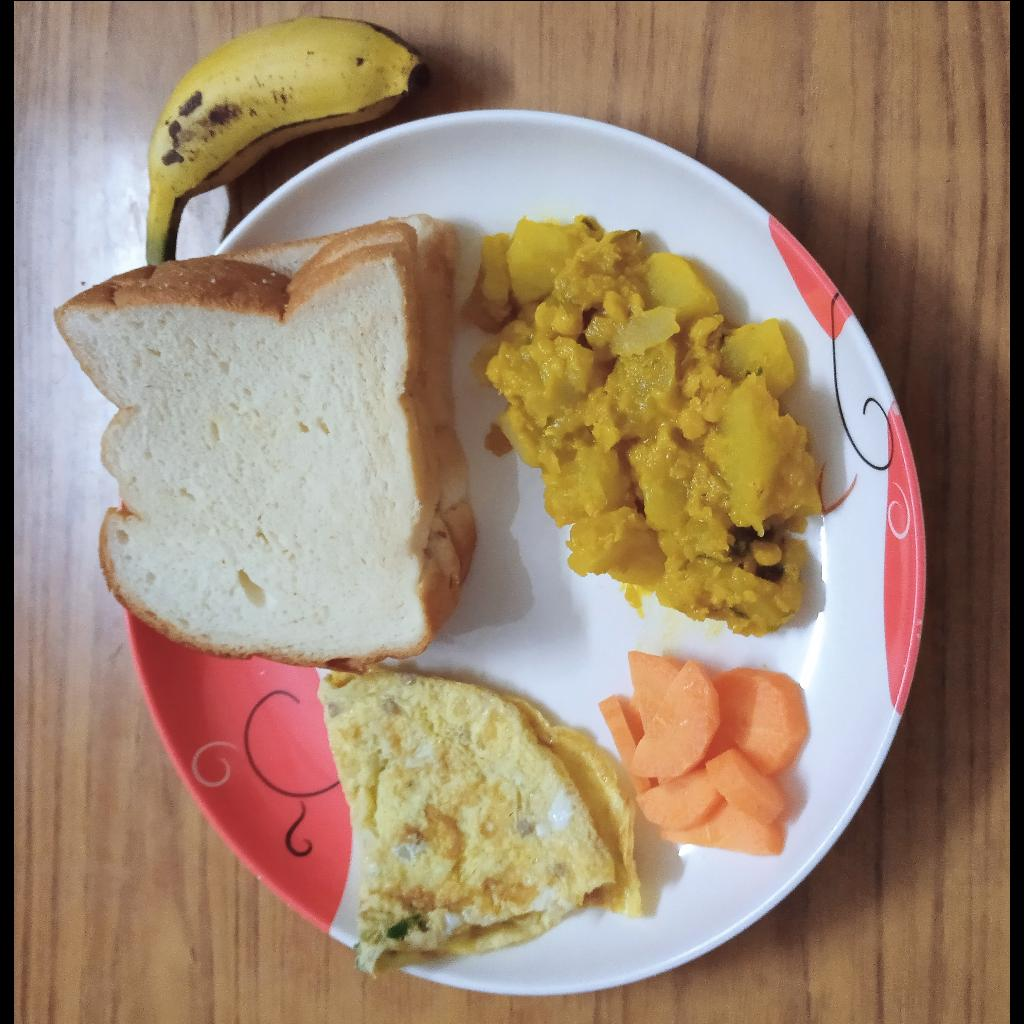banana: (141, 13, 429, 249)
bread: (52, 213, 485, 670)
carrot: (600, 654, 813, 855)
egg-poached: (319, 672, 646, 977)
lau: (465, 214, 825, 639)
